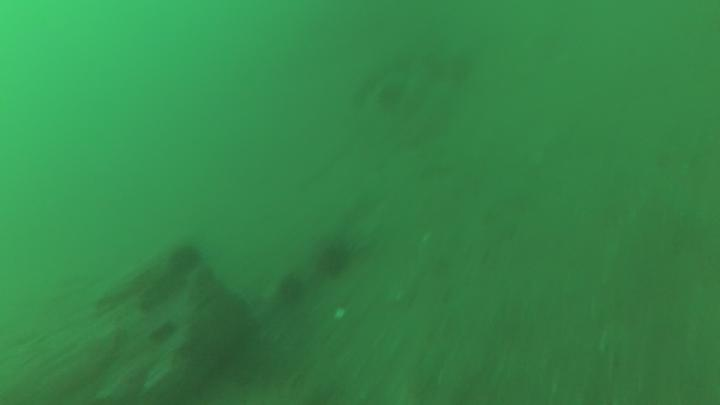echinus: (317, 243, 348, 284), (276, 270, 308, 307), (169, 245, 200, 278)
